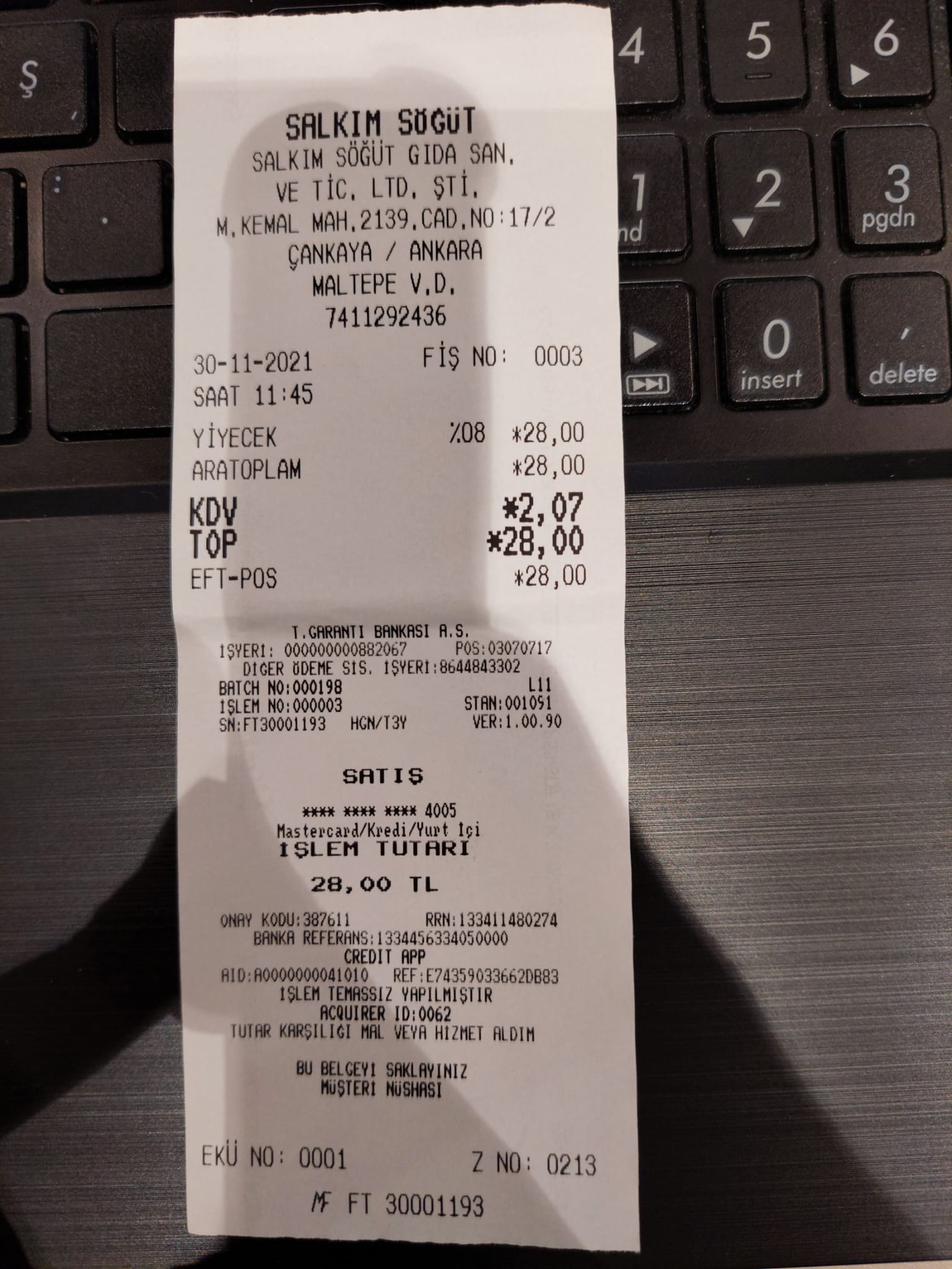date: (499, 521, 594, 561)
price: (185, 345, 320, 381)
workplace: (199, 94, 590, 269)
